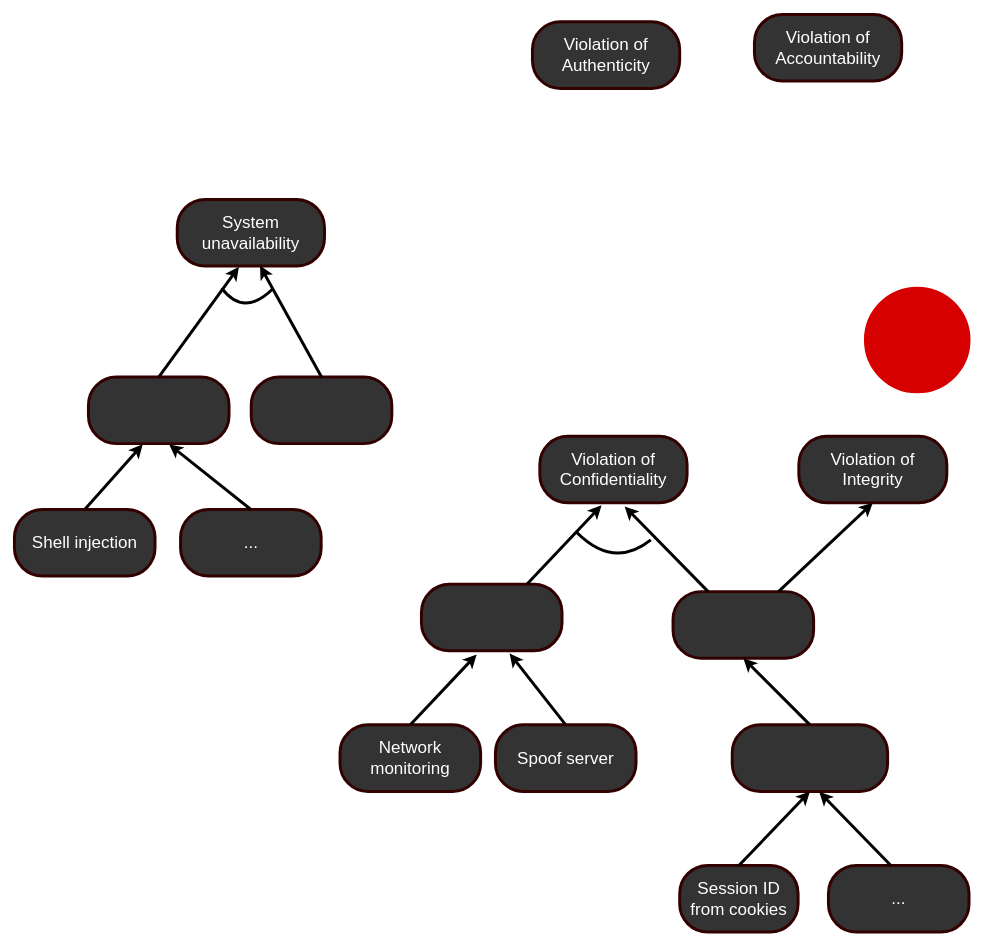
The diagram is 983 pixels wide and 946 high, and some of its shapes have lost their labels. Here are the shapes that lost their labels. From the top down, the box of each, then its label:
(864, 286, 970, 393): Outsider Attack
(87, 375, 230, 445): Vertical privilege escalation
(249, 375, 393, 445): System shoutdown
(420, 582, 563, 652): Intercept
(671, 590, 815, 659): Unauthorized access
(730, 723, 889, 793): Horizontal privilege escalation
